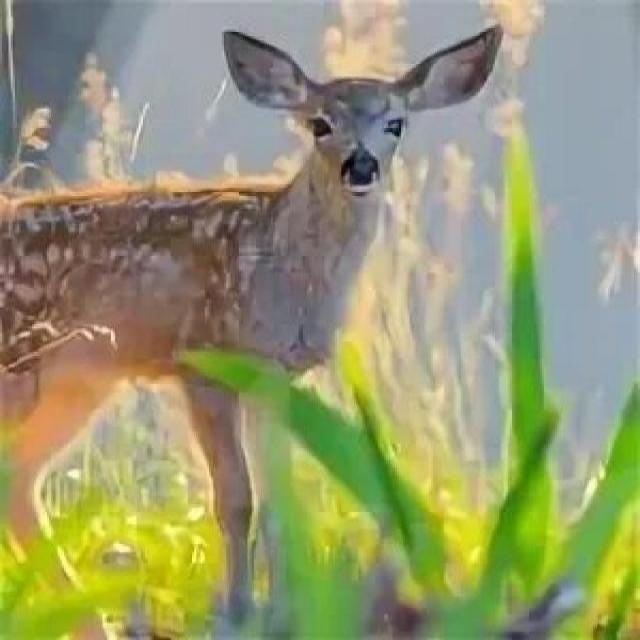deer: (14, 19, 522, 497)
